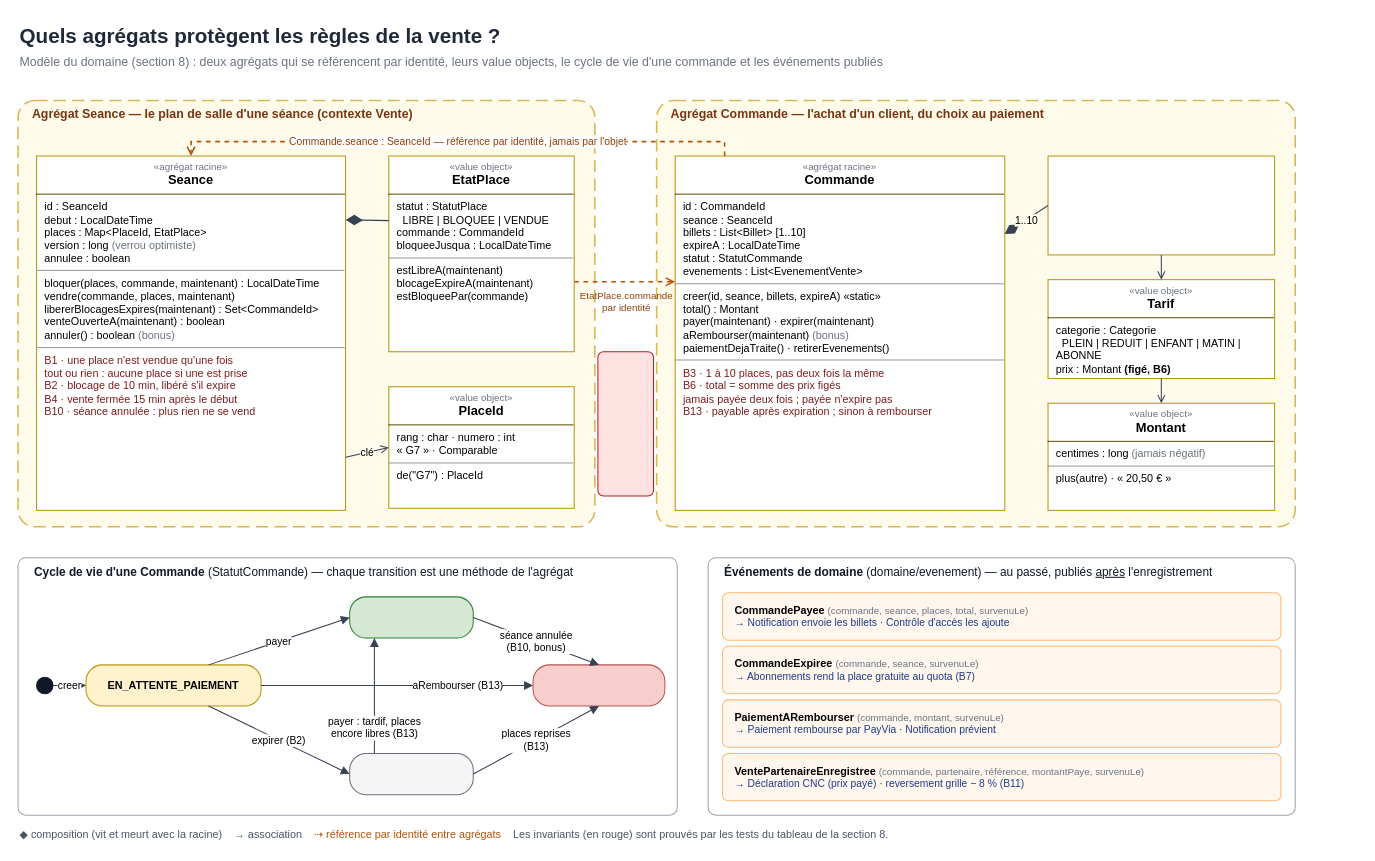
Some shapes in this 1375 by 861 pixel diagram are drawn without their labels. Each missing label, with the centre of its shape:
A_REMBOURSER: (x=598, y=685)
ADR 0002 payer modifie Seance ET Commande, même transaction: (x=625, y=423)
EXPIREE: (x=411, y=773)
PAYEE: (x=411, y=617)
«value object» Billet place : PlaceId tarif : Tarif: (x=1161, y=205)
